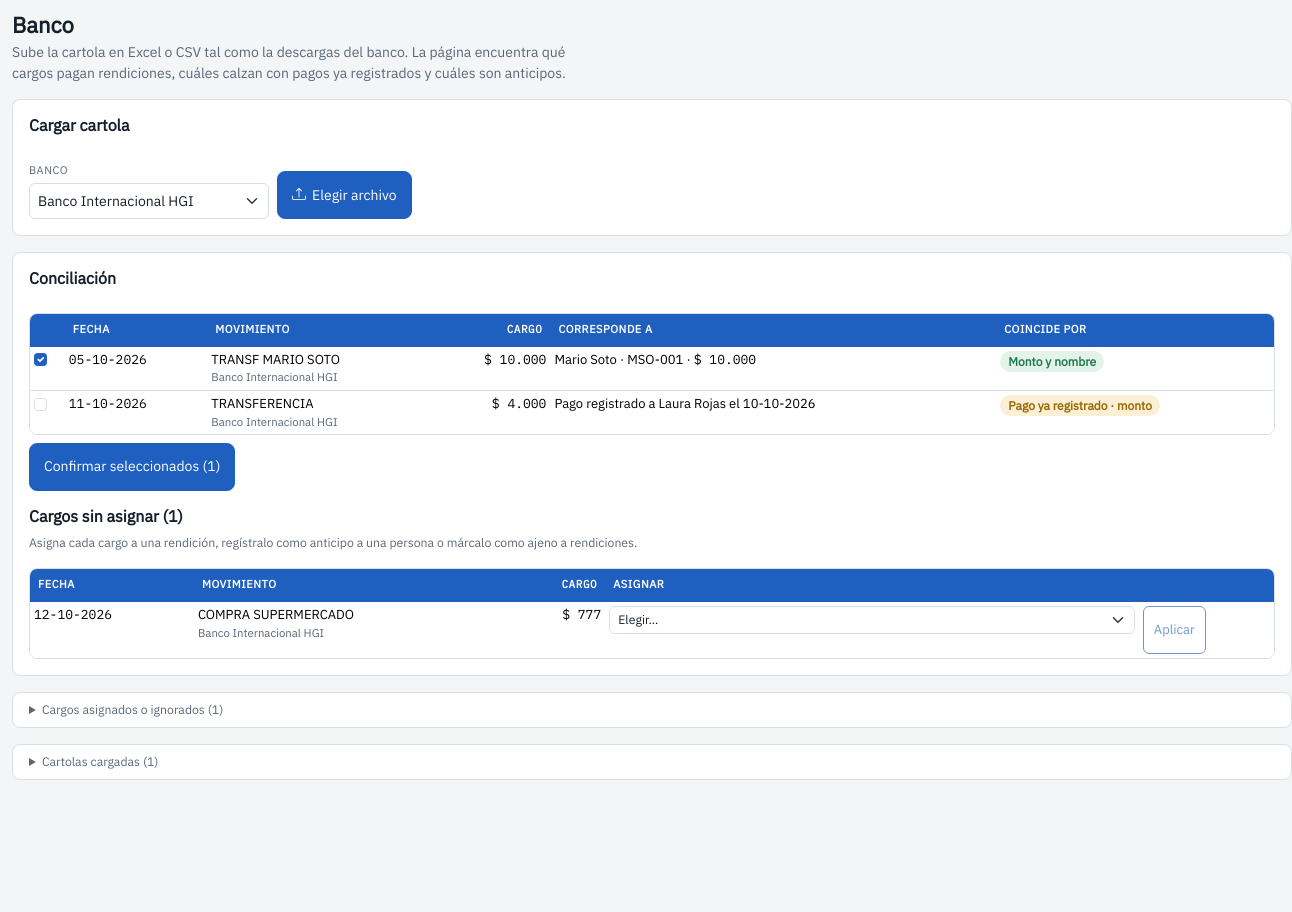
Test case: BancoView › confirmar envía las marcadas y avisa
Click the checkbox named "Confirmar cargo del 11-10-2026 por $ 4.000".
click(40, 404)  # box [34,398,47,411]
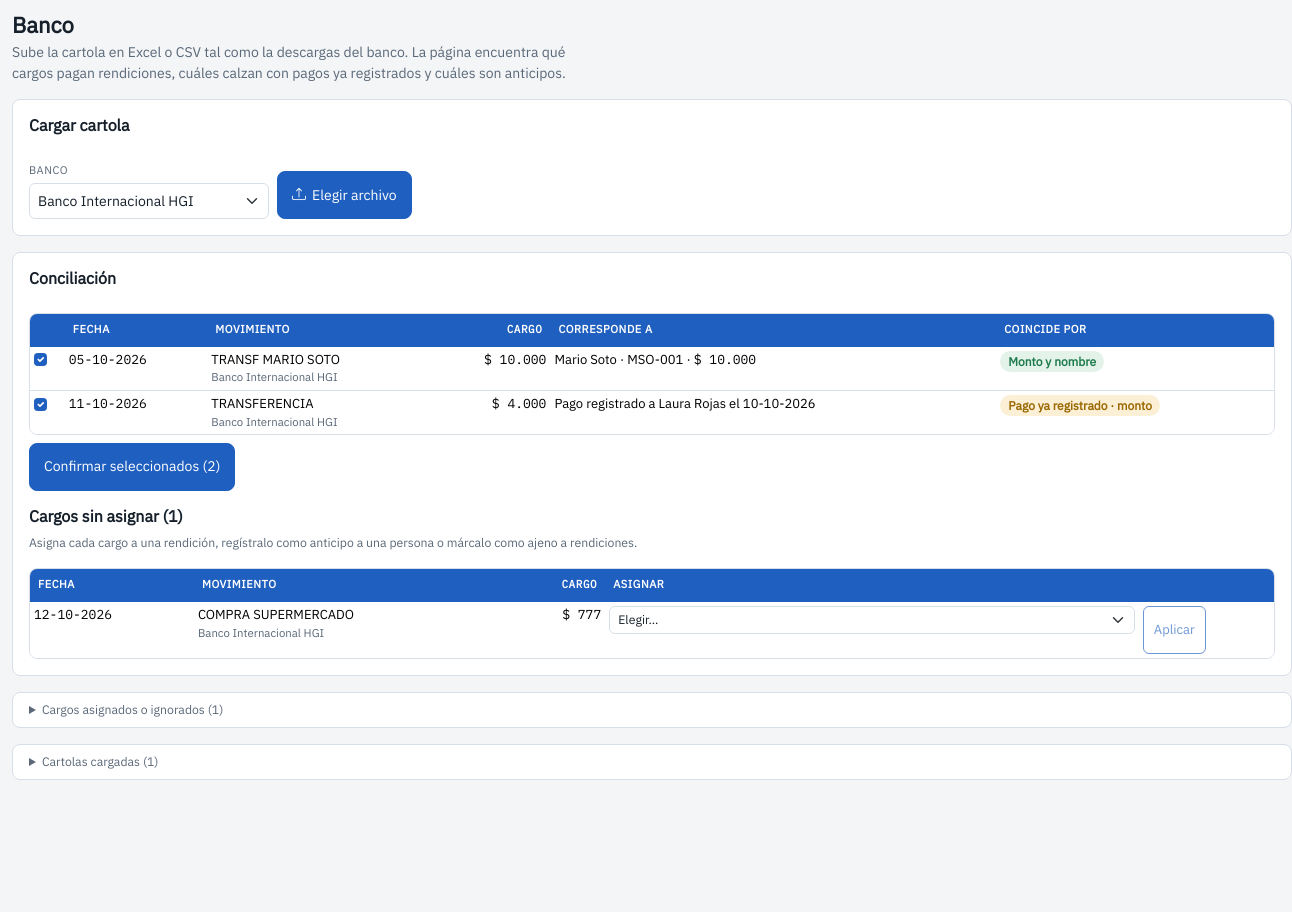
Click the button "Confirmar seleccionados (2)".
click(132, 467)  # box [29,443,235,491]
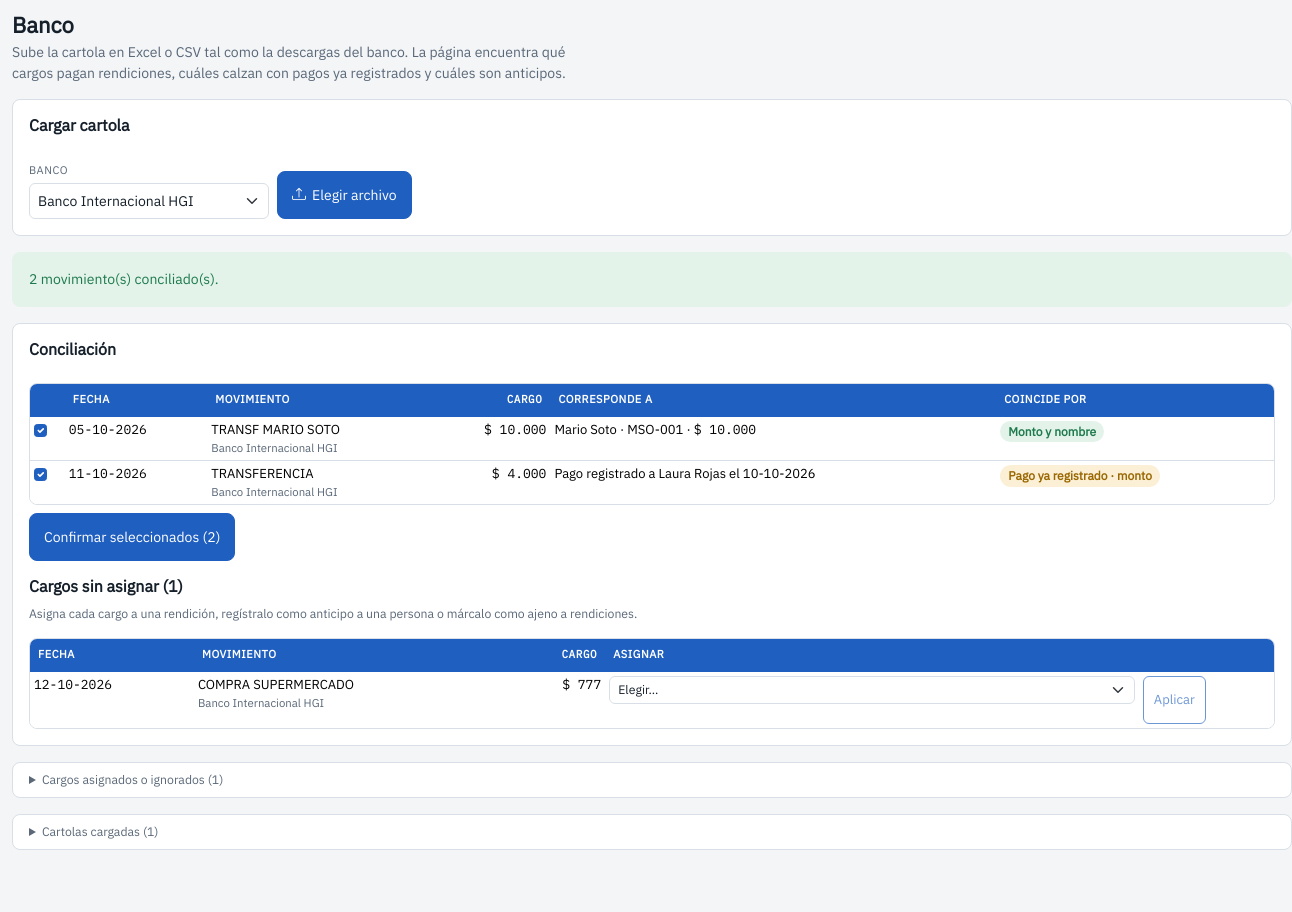
expect the message "2 movimiento(s) conciliado(s)." is shown: met, box [12,252,1291,307]
